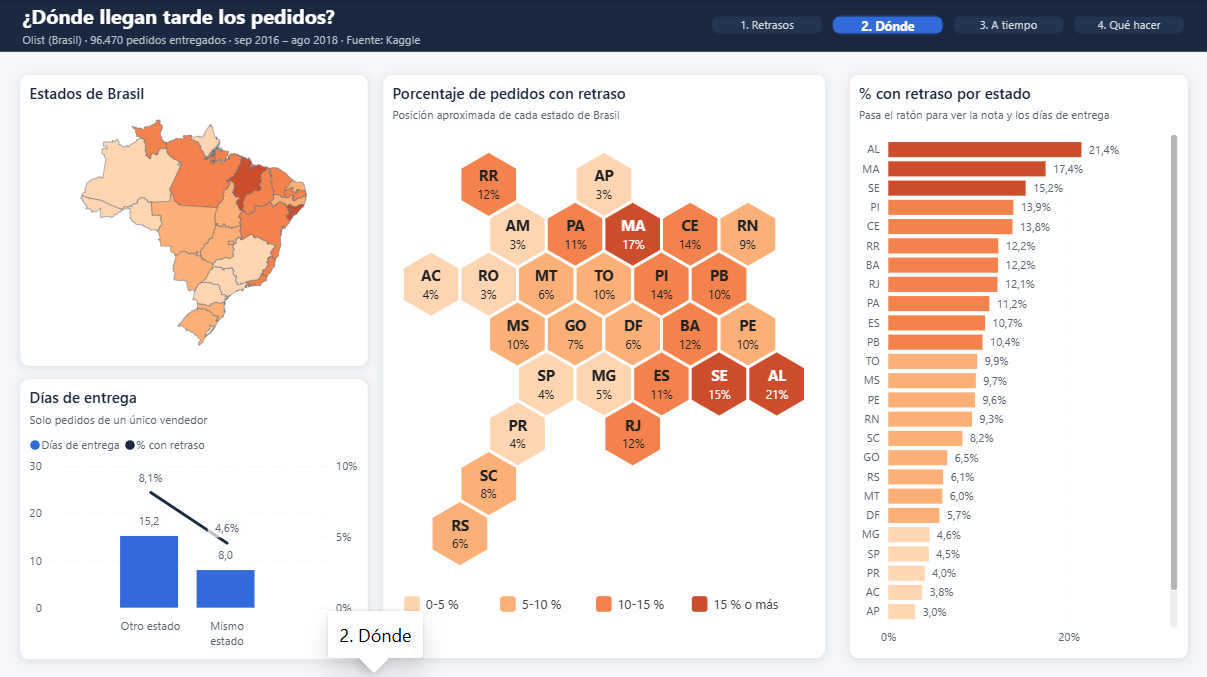

The dashboard page shown, as its layout file describes it:
{"tool":"powerbi","page":{"name":"2. Dónde","canvas":[1280,720],"ordinal":1},"visuals":[{"type":"shape","box":[0,0,1280,56],"z":0},{"type":"image","title":"Porcentaje de pedidos con retraso","box":[405,80,470,620],"z":1000},{"type":"clusteredBarChart","title":"% con retraso por estado","fields":{"Category":["pedidos_limpios.customer_state"],"Y":["pedidos_limpios.% con retraso"]},"box":[900,80,360,620],"z":2000},{"type":"lineStackedColumnComboChart","title":"Días de entrega","fields":{"Category":["pedidos_limpios.distancia"],"Y":["pedidos_limpios.Días de entrega"],"Y2":["pedidos_limpios.% con retraso"]},"box":[20,401.7,370,298.3],"z":3000},{"type":"shapeMap","title":"Estados de Brasil ","fields":{"Category":["pedidos_limpios.customer_state_name"]},"box":[20,80,370,310],"z":4001},{"type":"textbox","box":[24,3,700,32],"z":90000},{"type":"pageNavigator","box":[745,10,525,36],"z":90000},{"type":"textbox","box":[24,33,700,20],"z":90000}]}

Visuals, with their boxes in screenshot pixels (x1, y1, x2, y2), scaled from the page's 1280x720 canvas onto the 1207x677 screenshot:
shape: bbox=[0, 0, 1206, 53]
"Porcentaje de pedidos con retraso" image: bbox=[382, 75, 825, 658]
"% con retraso por estado" clusteredBarChart: bbox=[849, 75, 1188, 658]
"Días de entrega" lineStackedColumnComboChart: bbox=[19, 378, 368, 658]
"Estados de Brasil " shapeMap: bbox=[19, 75, 368, 367]
textbox: bbox=[23, 3, 683, 33]
pageNavigator: bbox=[703, 9, 1198, 43]
textbox: bbox=[23, 31, 683, 50]
